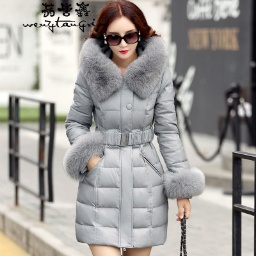face: (88, 1, 154, 61)
